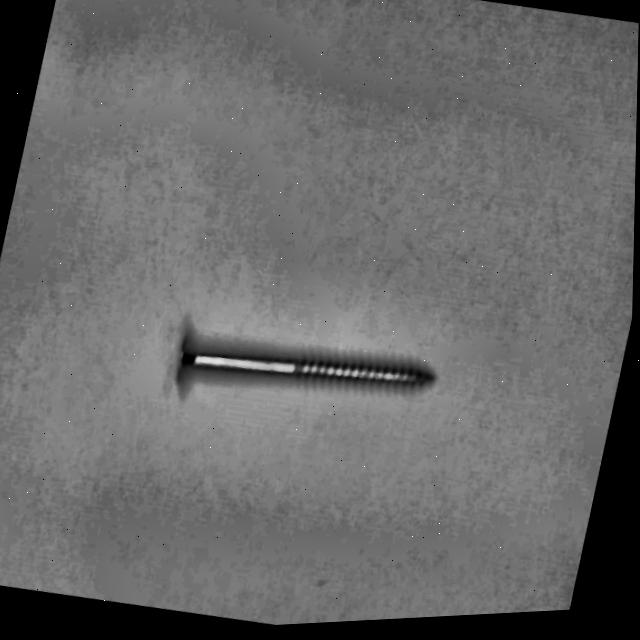Wood screw: (167, 325, 439, 445)
